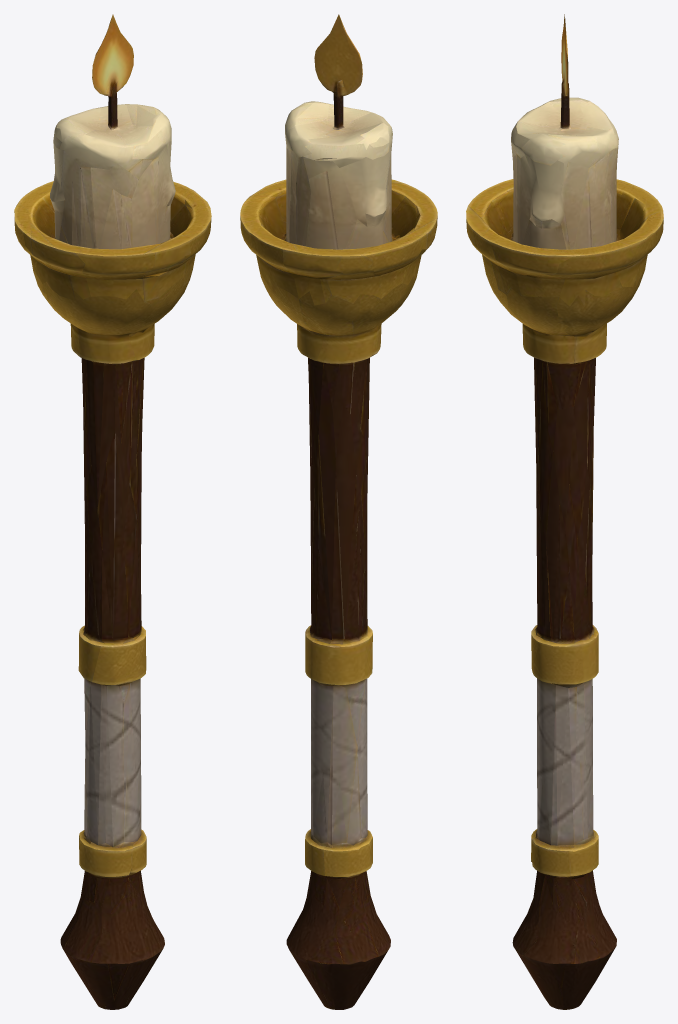
Rendered from candle_wand.glb.
The picture shows the model from 3 angles, left to right: view 1: azimuth 30°, elevation 25°; view 2: azimuth 150°, elevation 25°; view 3: azimuth 270°, elevation 25°; orthographic projection.
Size of the model in its own units: 0.2292 by 1.27 by 0.2292.
Materials: 1 (1 with a texture image).
